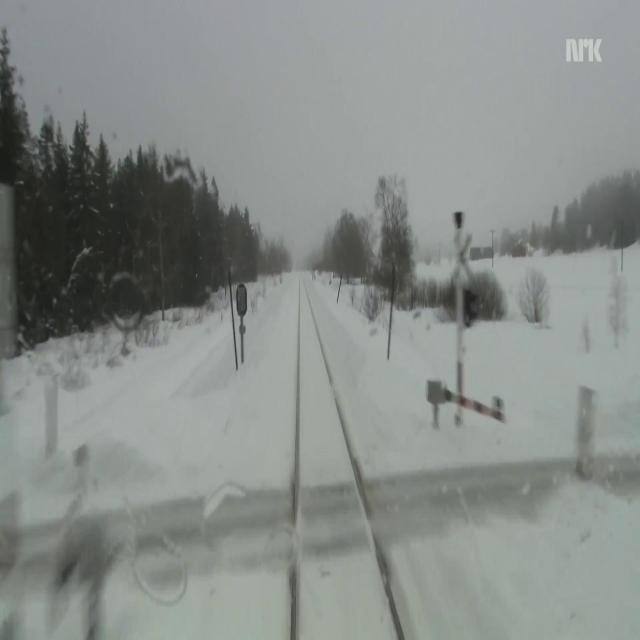rail-track: (296, 273, 400, 639)
